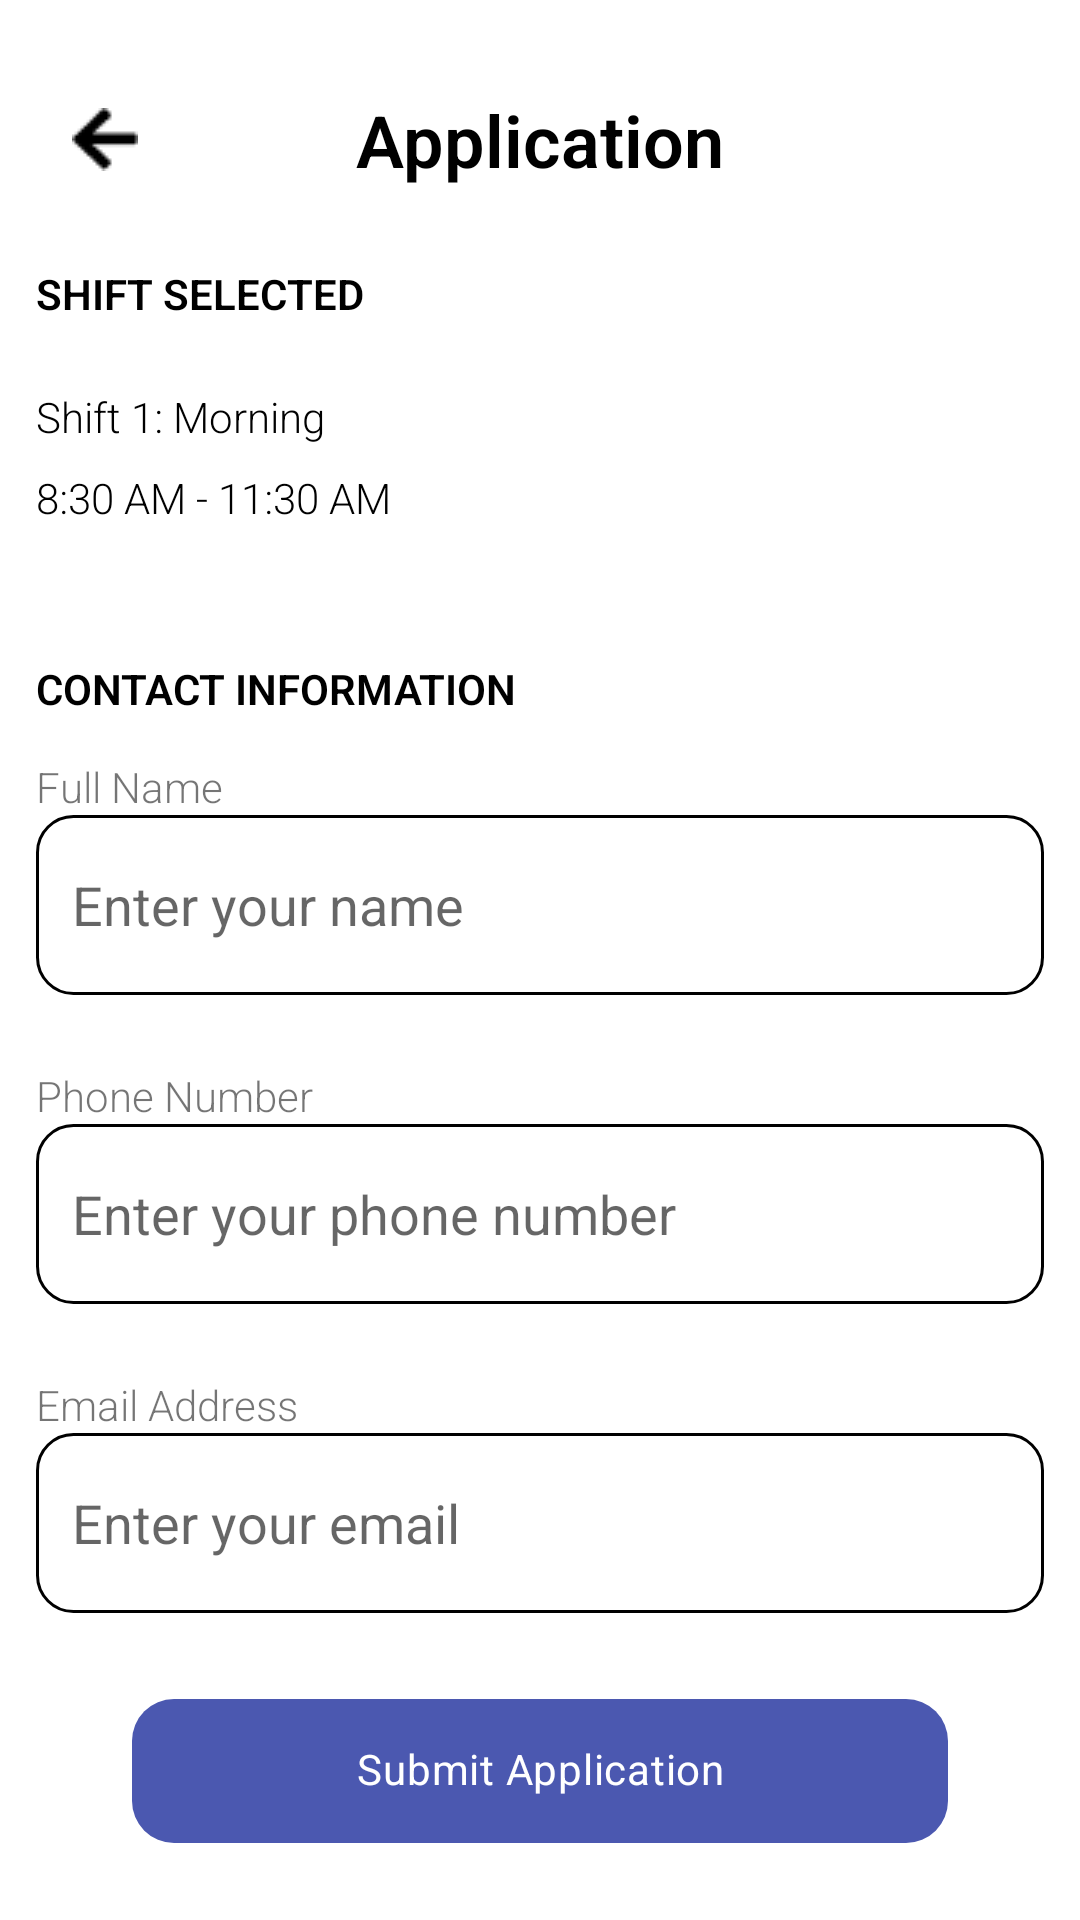

Point at icon controls on the screen. Image size 1080*1920, points as (x,y).
back: (105,139)
